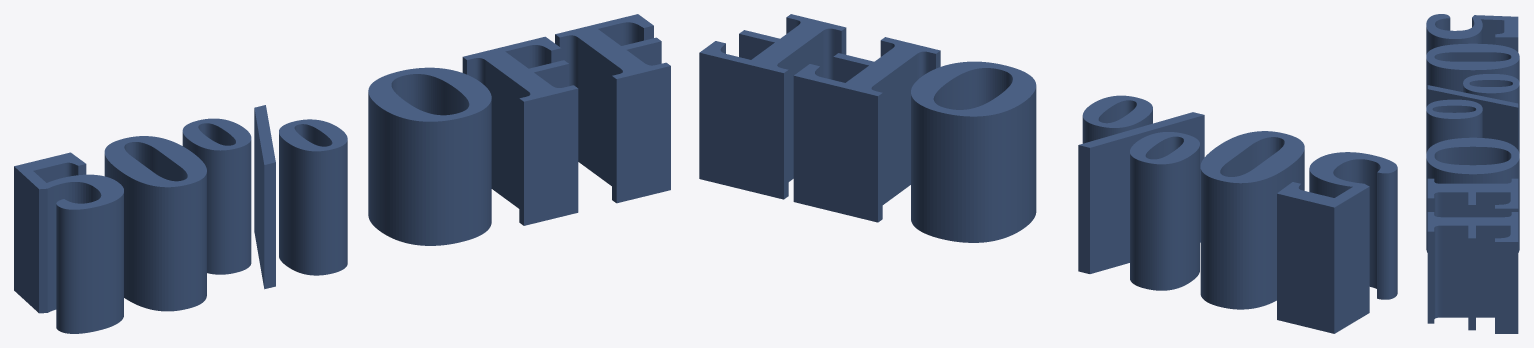
3 renders of one model, left to right at view 1: azimuth 30°, elevation 25°; view 2: azimuth 150°, elevation 25°; view 3: azimuth 270°, elevation 25°, orthographic. The views are drawn at different scales.
Parts seen in each view (by area): view 1: Mesh_Mesh_head_geo.001_lambert2SG.001; view 2: Mesh_Mesh_head_geo.001_lambert2SG.001; view 3: Mesh_Mesh_head_geo.001_lambert2SG.001.
Part boxes in pixels (x1,y1,x2,y2): Mesh_Mesh_head_geo.001_lambert2SG.001: (14,14,670,333); Mesh_Mesh_head_geo.001_lambert2SG.001: (699,14,1397,333); Mesh_Mesh_head_geo.001_lambert2SG.001: (1426,14,1519,333).
Size of the model in its own units: 118 by 22.12 by 20.4.
